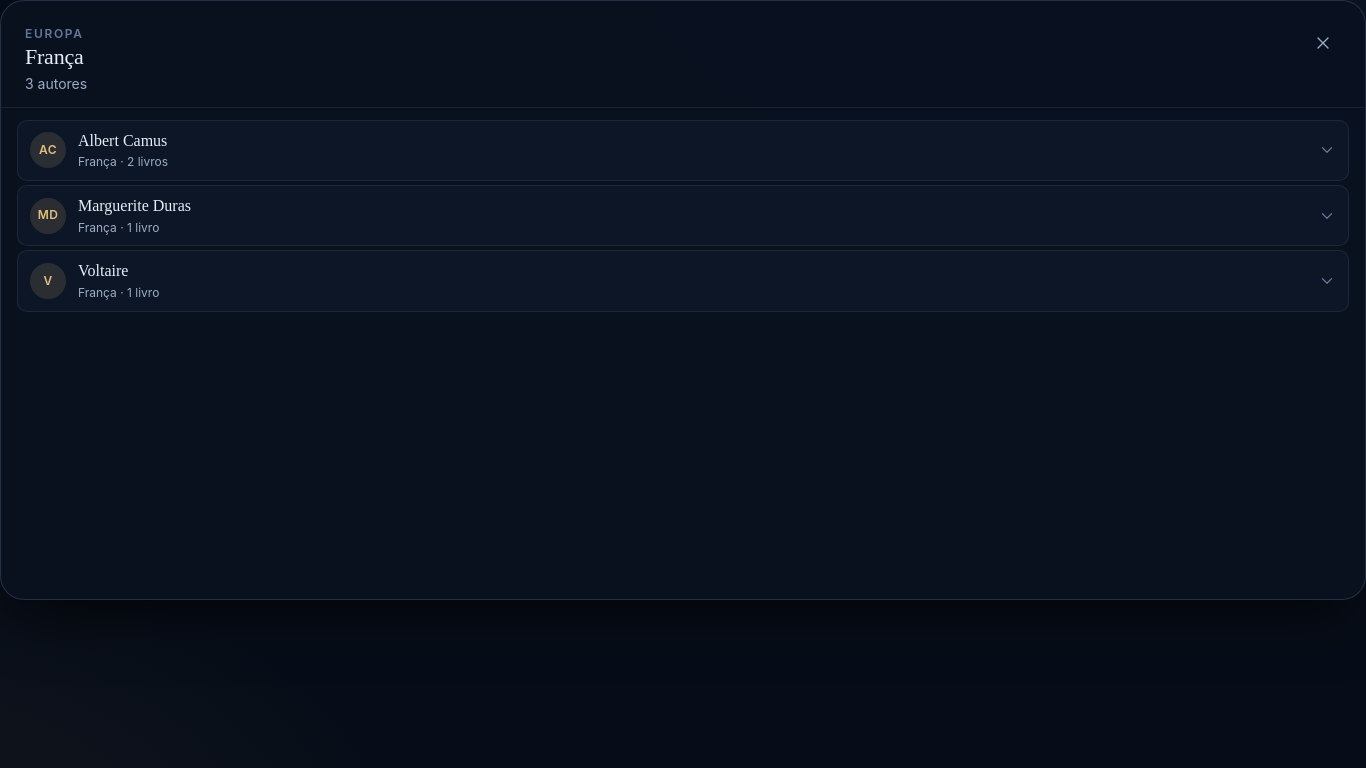
Test: CountryPanel — mapa de autores › clicar expande/recolhe e mostra só os livros do autor, com link
Click the button "MD Marguerite Duras França · 1 livro".
click(48, 216)  # box [18,186,1348,245]
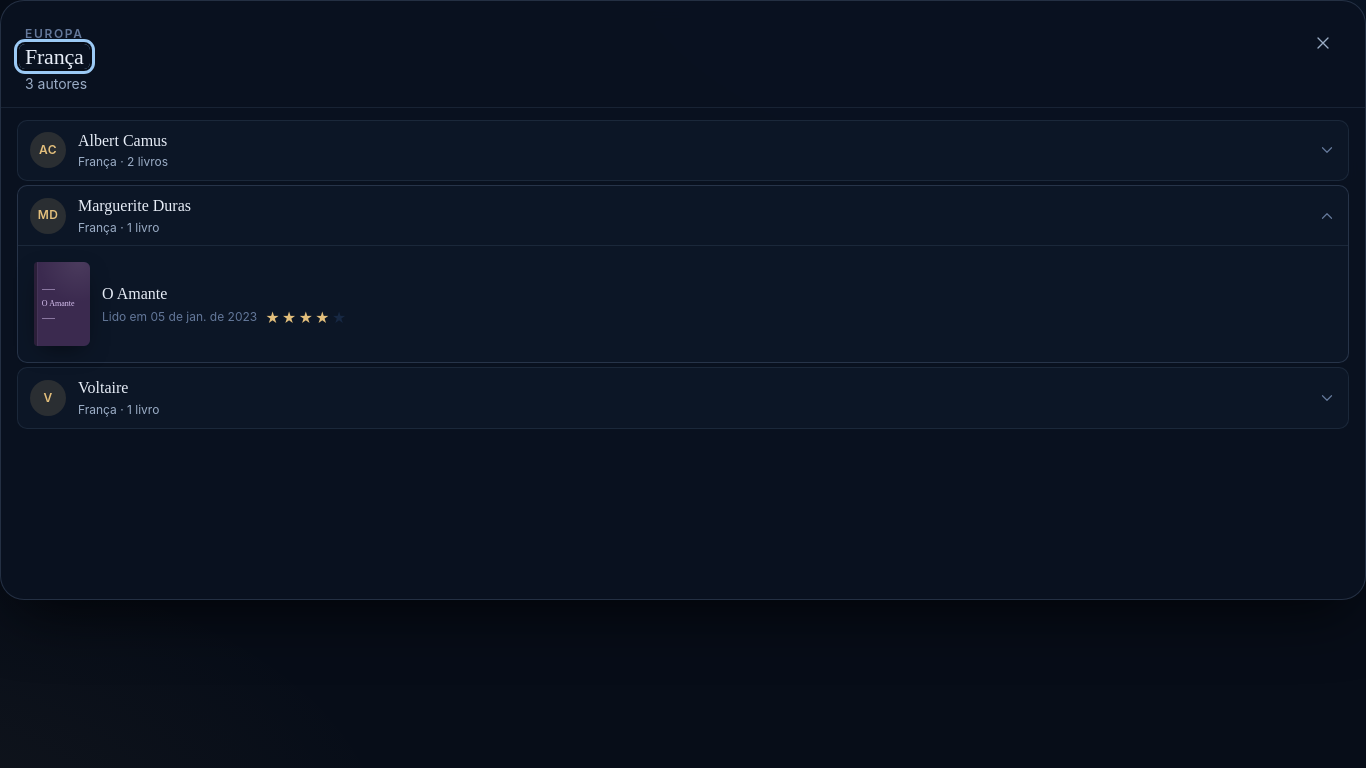
Now the button "MD Marguerite Duras França · 1 livro" is expanded
Now the link with class "book" shows "O Amante", box [34,262,346,346]
Click the button "MD Marguerite Duras França · 1 livro".
click(48, 216)  # box [18,186,1348,245]
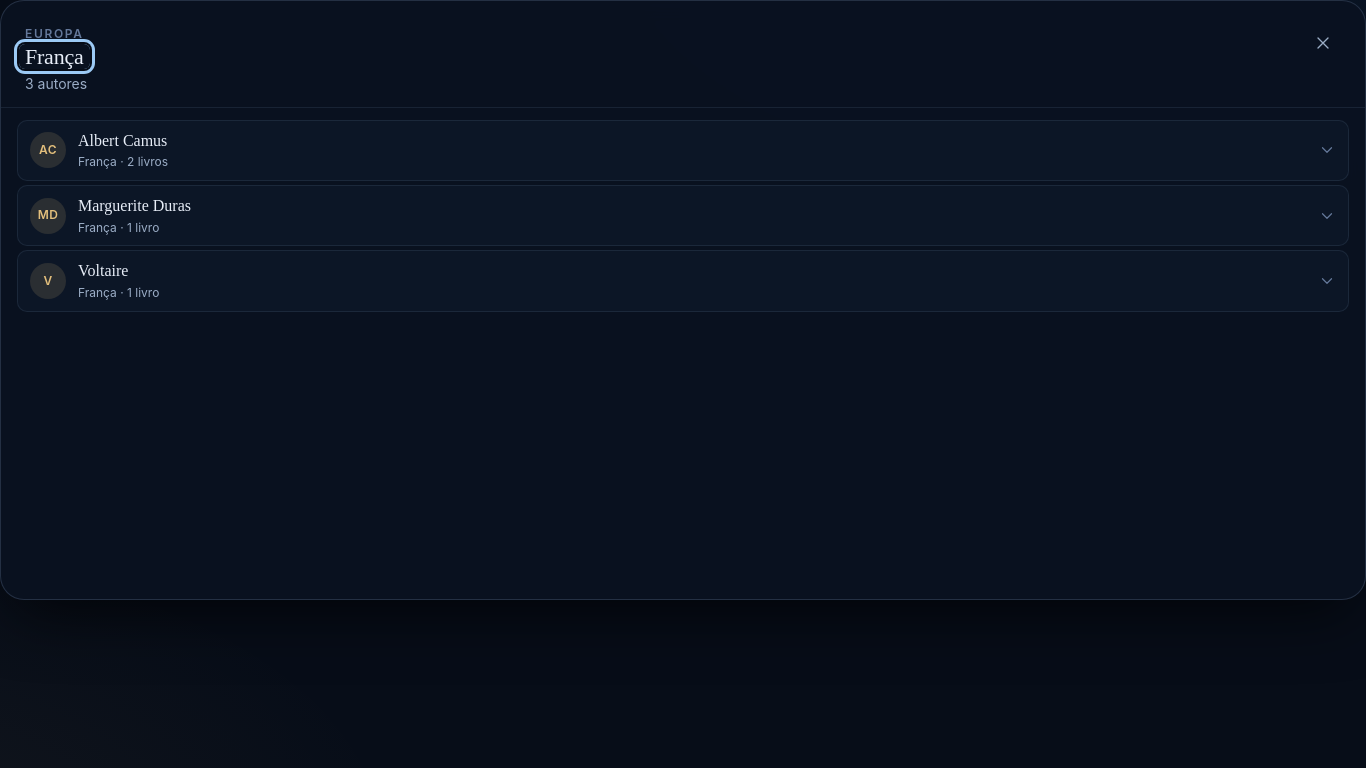
Now the button "MD Marguerite Duras França · 1 livro" is collapsed, box [18,186,1348,245]
